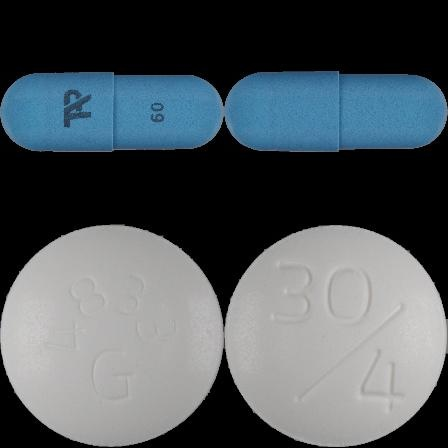64764-175: (0, 0, 224, 224)
